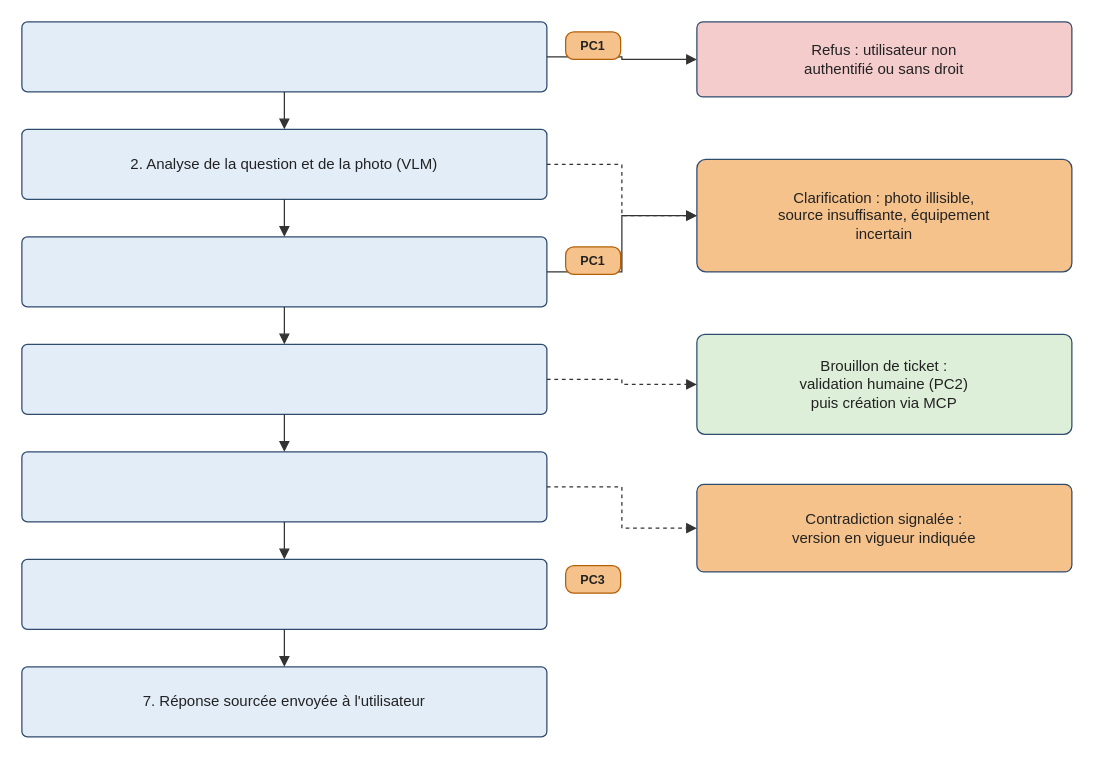
Some shapes in this 1094 by 759 pixel diagram are drawn without their labels. The shapes that lost their labels are listed below. From the top down, each one's centre as x and y in pixels, then its label:
At point 284,56: "1. Identité et groupes de l'utilisateur (API)".
At point 284,271: "3. Recherche texte et image, documents autorisés seulement".
At point 284,378: "4. Consultation de l'historique via MCP (si nécessaire)".
At point 284,486: "5. Rédaction de la réponse avec ses sources".
At point 284,593: "6. Vérification des citations et du format".
